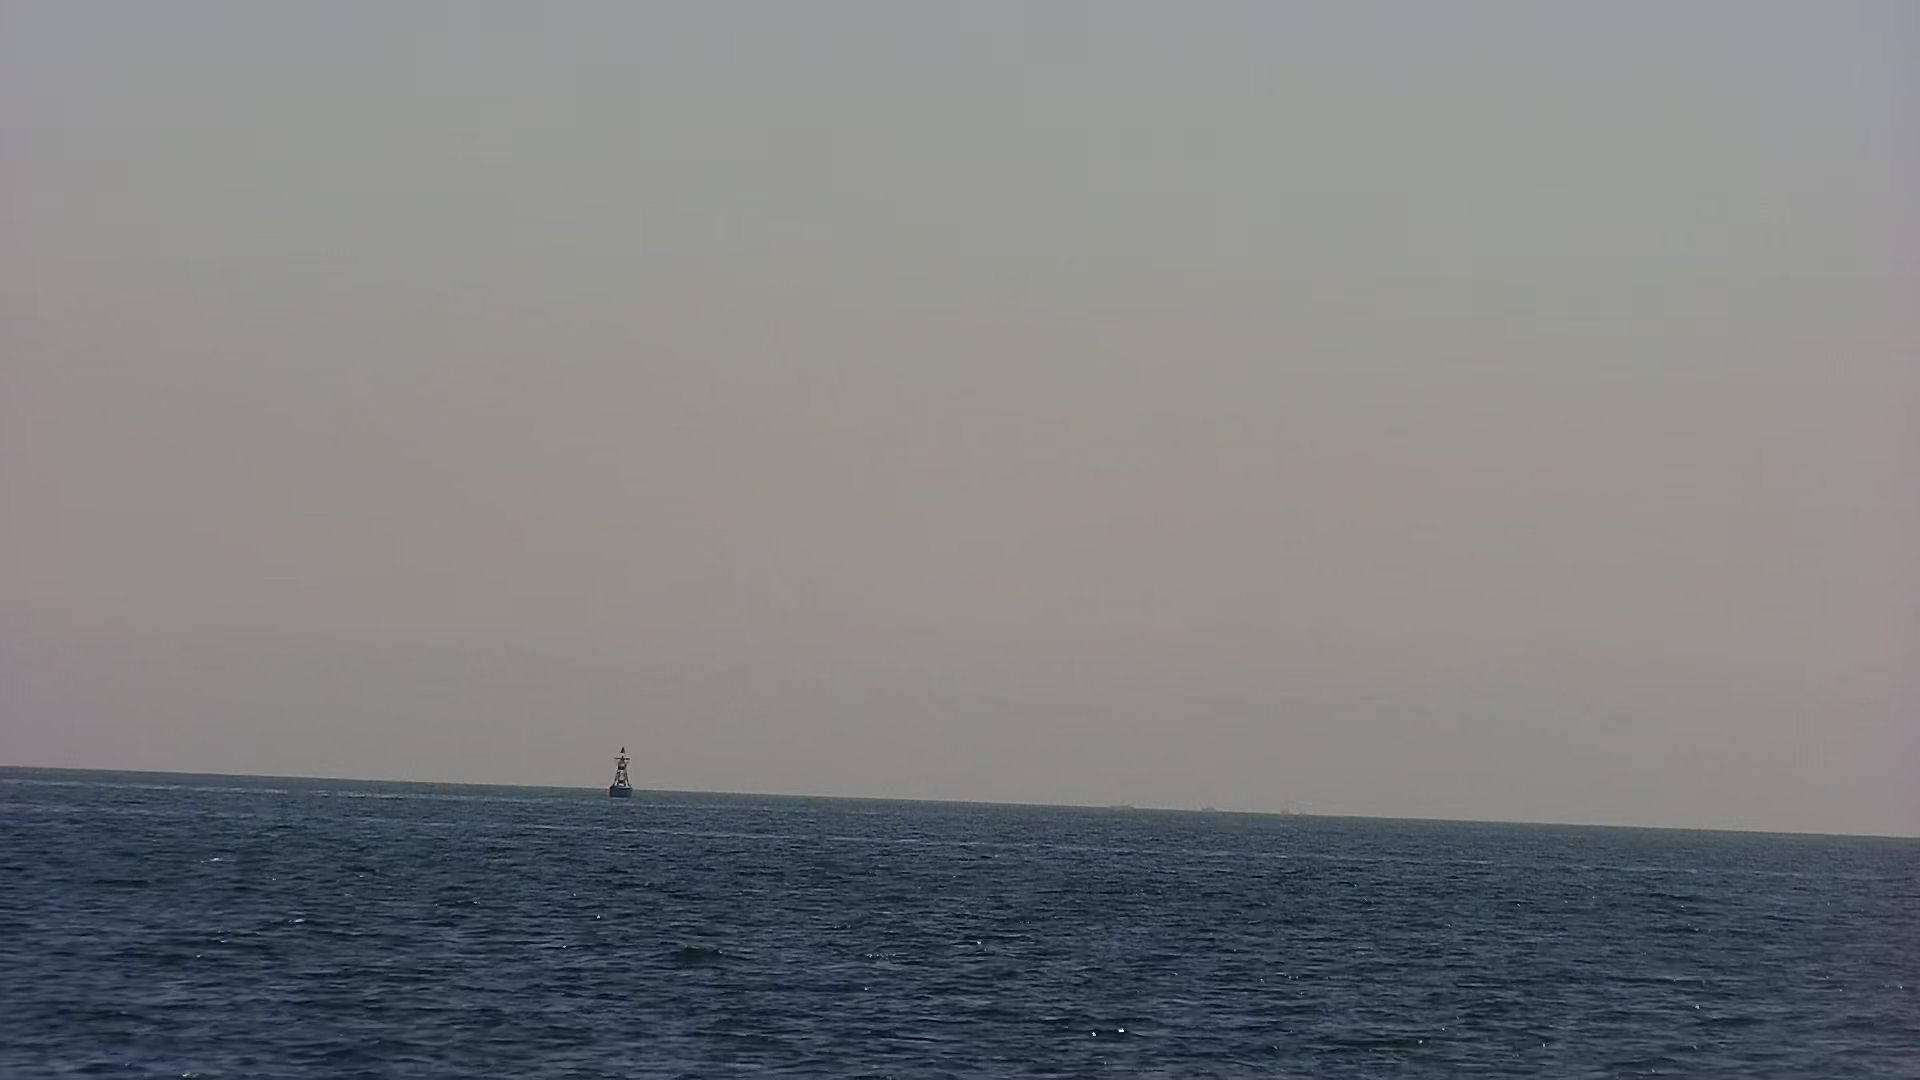buoy: (609, 742, 633, 796)
